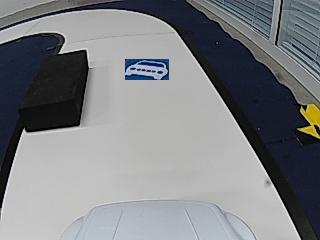block: (21, 49, 87, 132)
